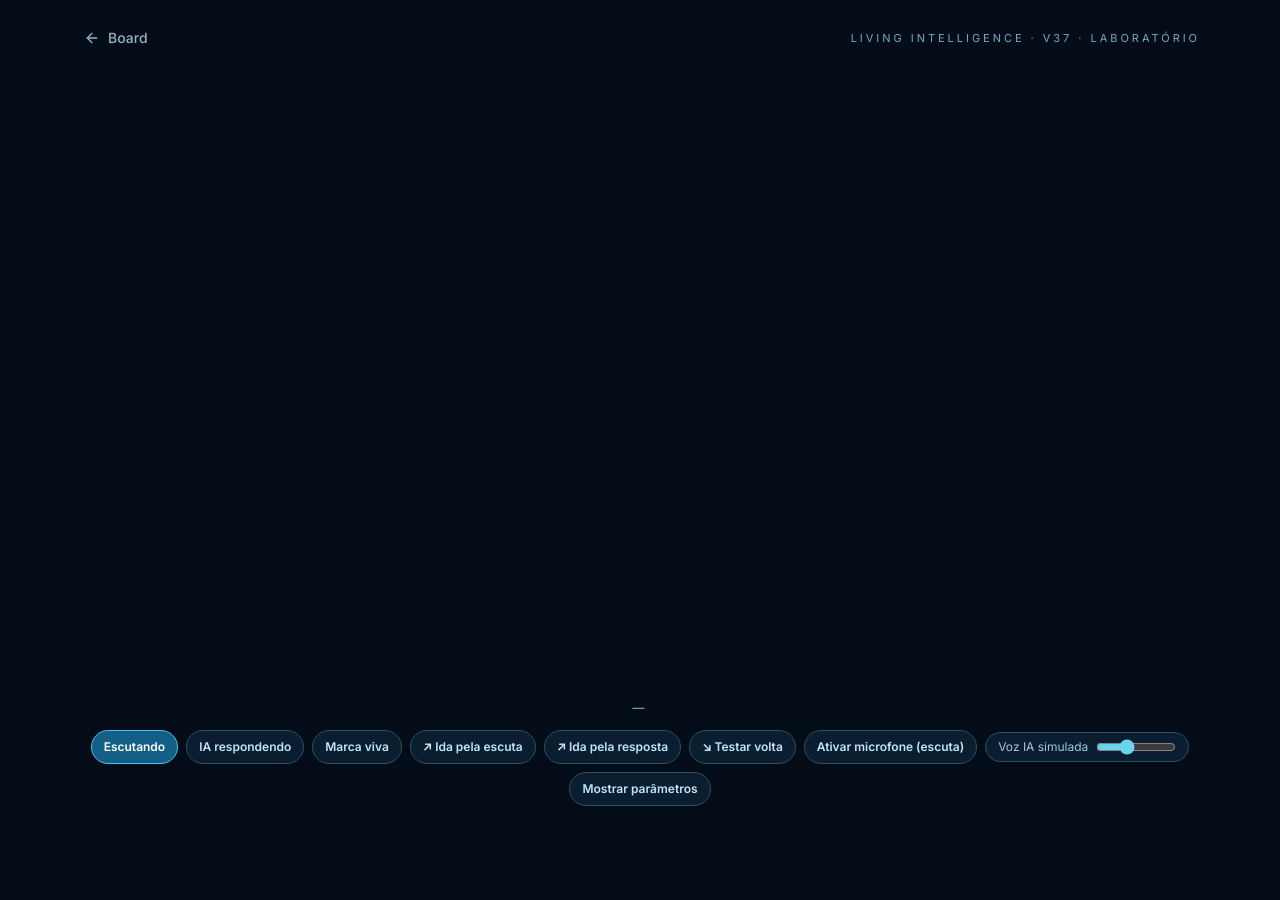
it: VoiceLabPage › asks for the microphone once, and releases it when switched off and on leaving
Click the button "Ativar microfone (escuta)" at (890, 747), box [804,730,977,764]
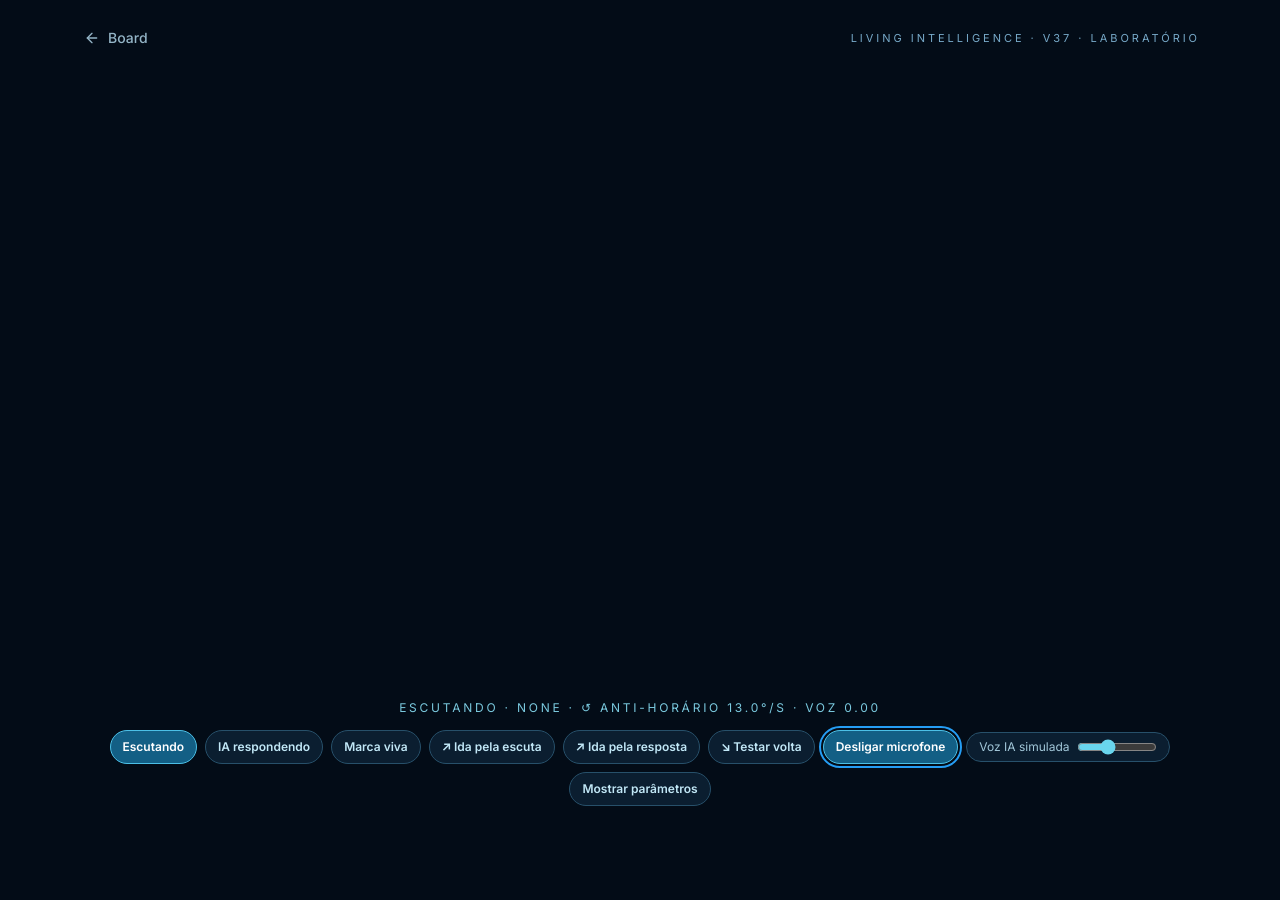
Click the button "Desligar microfone" at (890, 747), box [823,730,958,764]
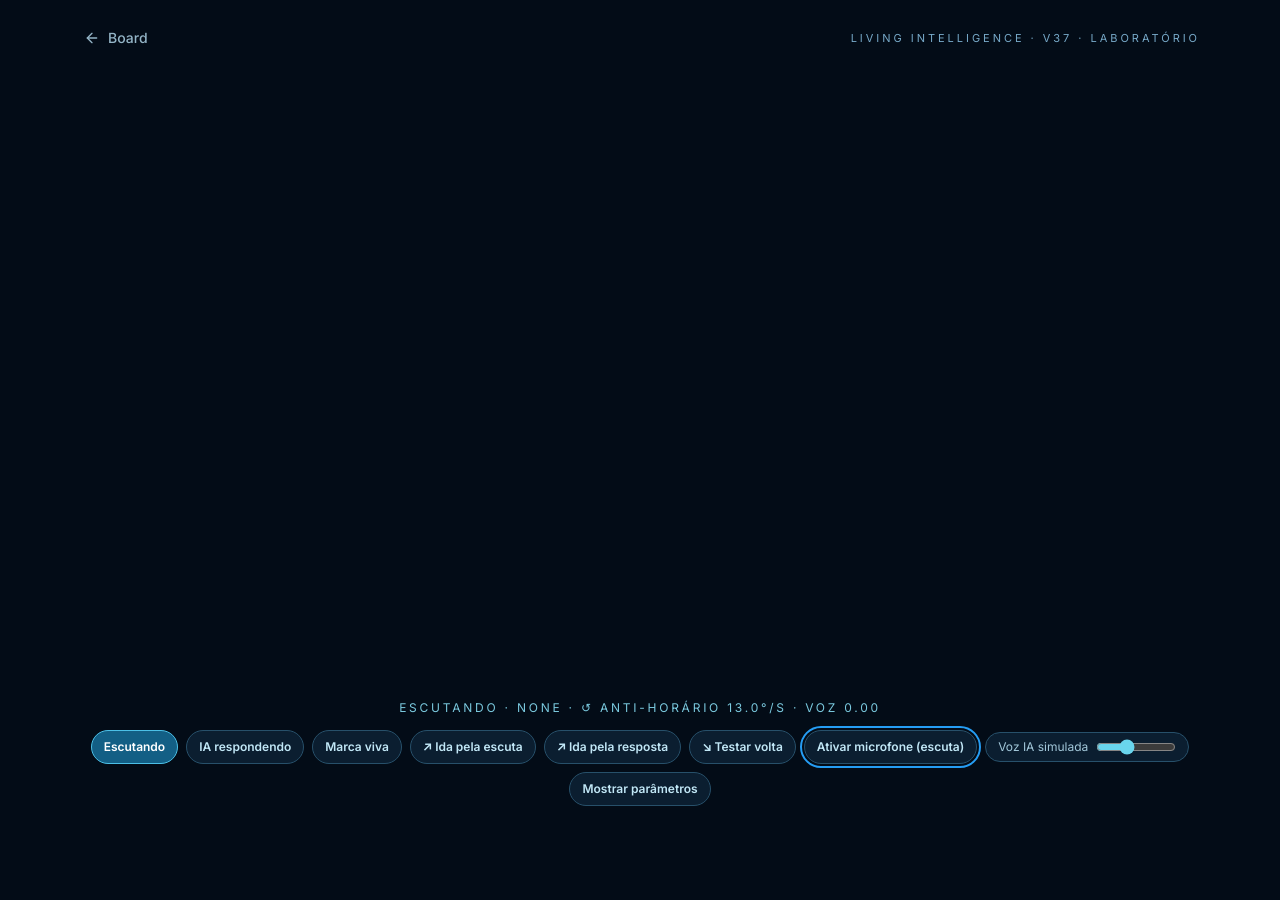
Click the button "Ativar microfone (escuta)" at (890, 747), box [804,730,977,764]
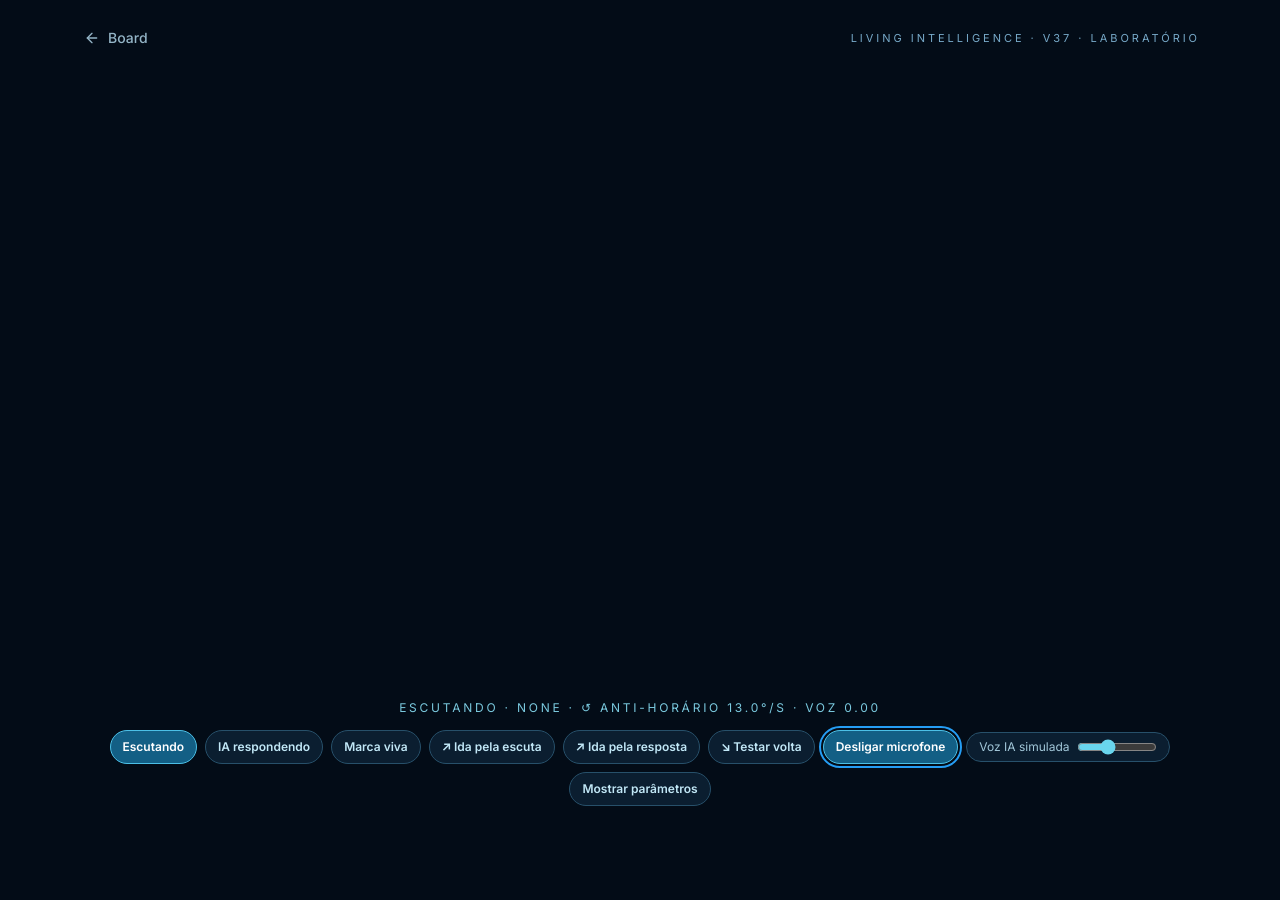
Expected: the button "Desligar microfone" is shown, [823,730,958,764]
